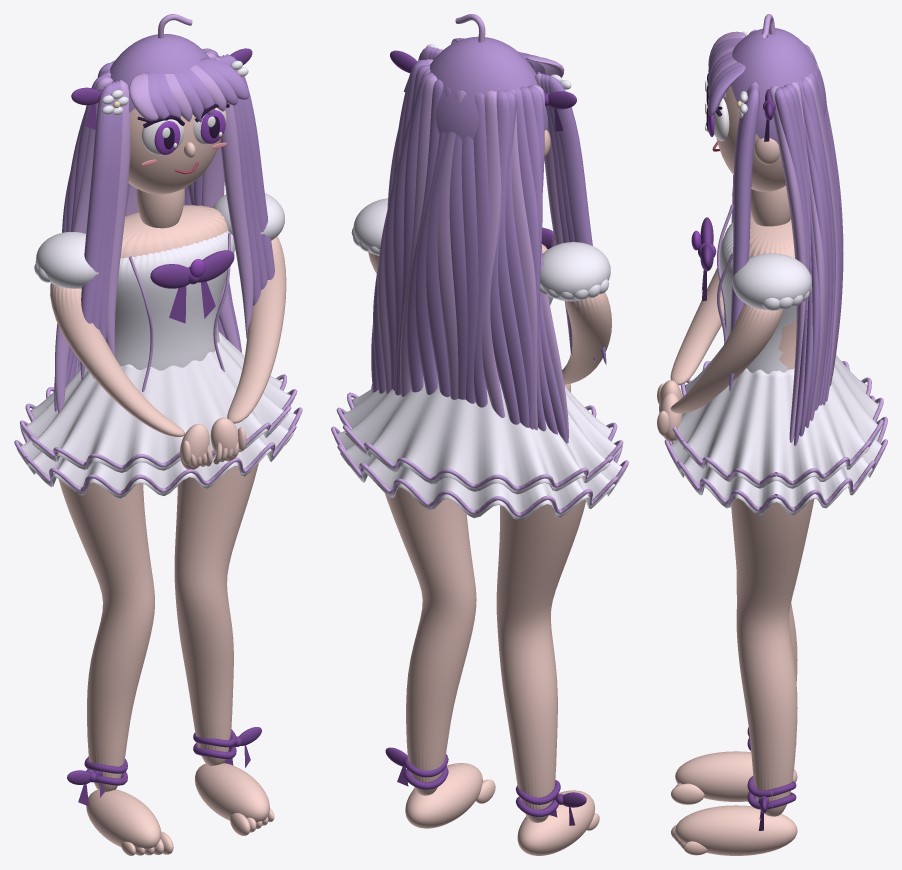
File: lavender-character.glb
3 renders of one model, left to right at view 1: azimuth 30°, elevation 25°; view 2: azimuth 150°, elevation 25°; view 3: azimuth 270°, elevation 25°, orthographic. The views are drawn at different scales.
Visible parts, largest first — view 1: Main pleated skirt, R leg, L leg, Corseted ivory bodice, Arm, Underskirt ruffle, Arm.001, Head, Face framing lock.003, Torso, Face framing lock.004, R foot (+27 smaller); view 2: Main pleated skirt, R leg, L leg, Hair crown, Underskirt ruffle, Back hair lock 16, Back hair lock 15, Back hair lock 17, Back hair lock 12, Back hair lock 13, Back hair lock 14, L foot (+27 smaller); view 3: L leg, Main pleated skirt, Hair crown, L foot, Underskirt ruffle, Arm.001, Face framing lock.007, Puffed off shoulder sleeve.001, R foot, Back hair lock 00, Arm, Back hair lock 01 (+20 smaller).
Part boxes in pixels (bbox=[...]): Main pleated skirt: bbox=[22, 331, 294, 472]; R leg: bbox=[58, 479, 154, 791]; L leg: bbox=[174, 463, 258, 765]; Corseted ivory bodice: bbox=[115, 230, 235, 370]; Arm: bbox=[50, 283, 185, 436]; Underskirt ruffle: bbox=[16, 411, 299, 498]; Arm.001: bbox=[227, 236, 286, 423]; Head: bbox=[128, 108, 221, 194]; Face framing lock.003: bbox=[80, 82, 114, 380]; Torso: bbox=[120, 205, 228, 258]; Face framing lock.004: bbox=[214, 57, 253, 338]; R foot: bbox=[86, 789, 161, 850]; Main pleated skirt: bbox=[339, 374, 620, 494]; R leg: bbox=[496, 499, 585, 822]; L leg: bbox=[385, 487, 476, 795]; Hair crown: bbox=[429, 36, 548, 140]; Underskirt ruffle: bbox=[334, 431, 626, 520]; Back hair lock 16: bbox=[482, 90, 504, 417]; Back hair lock 15: bbox=[473, 93, 490, 407]; Back hair lock 17: bbox=[490, 90, 519, 424]; Back hair lock 12: bbox=[437, 90, 465, 399]; Back hair lock 13: bbox=[449, 92, 467, 399]; Back hair lock 14: bbox=[461, 95, 478, 403]; L foot: bbox=[405, 763, 482, 828]; L leg: bbox=[731, 498, 814, 816]; Main pleated skirt: bbox=[674, 347, 881, 488]; Hair crown: bbox=[731, 28, 826, 144]; L foot: bbox=[675, 805, 797, 855]; Underskirt ruffle: bbox=[667, 420, 885, 515]; Arm.001: bbox=[670, 303, 782, 413]; Face framing lock.007: bbox=[729, 87, 759, 392]; Puffed off shoulder sleeve.001: bbox=[732, 253, 811, 310]; R foot: bbox=[675, 751, 797, 801]; Back hair lock 00: bbox=[769, 85, 806, 442]; Arm: bbox=[670, 268, 724, 385]; Back hair lock 01: bbox=[774, 87, 809, 445].
Bounding box in the file's own units: 0.5875 × 1.69 × 0.4338.
